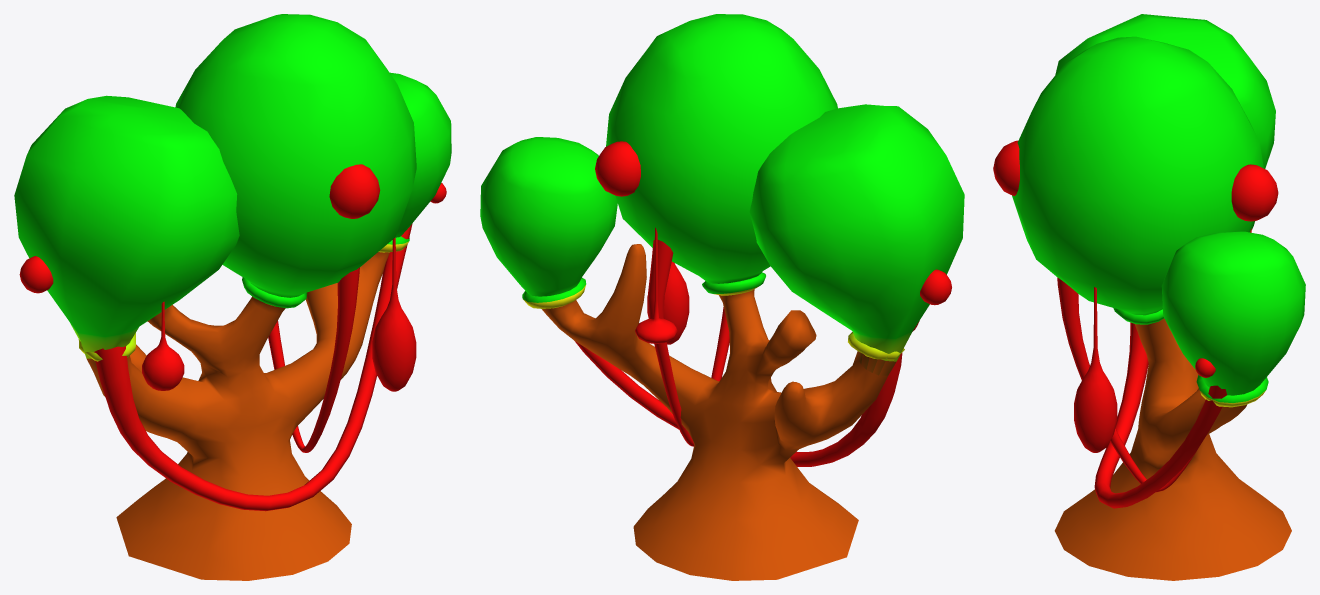
Rendered from BubbleTree_04.fbx.
3 views of the same model, side by side, from view 1: azimuth 30°, elevation 25°; view 2: azimuth 150°, elevation 25°; view 3: azimuth 270°, elevation 25° (orthographic). The views are drawn at different scales.
Parts seen in each view (by area): view 1: BubbleTree_04_LOD0; view 2: BubbleTree_04_LOD0; view 3: BubbleTree_04_LOD0.
Boxes of the visible parts, x1,y1,x2,y2 form: BubbleTree_04_LOD0: (14,14,451,580); BubbleTree_04_LOD0: (480,14,964,580); BubbleTree_04_LOD0: (993,14,1305,580).
Size of what is drawn, in the model's own units: 857 by 927 by 521.
